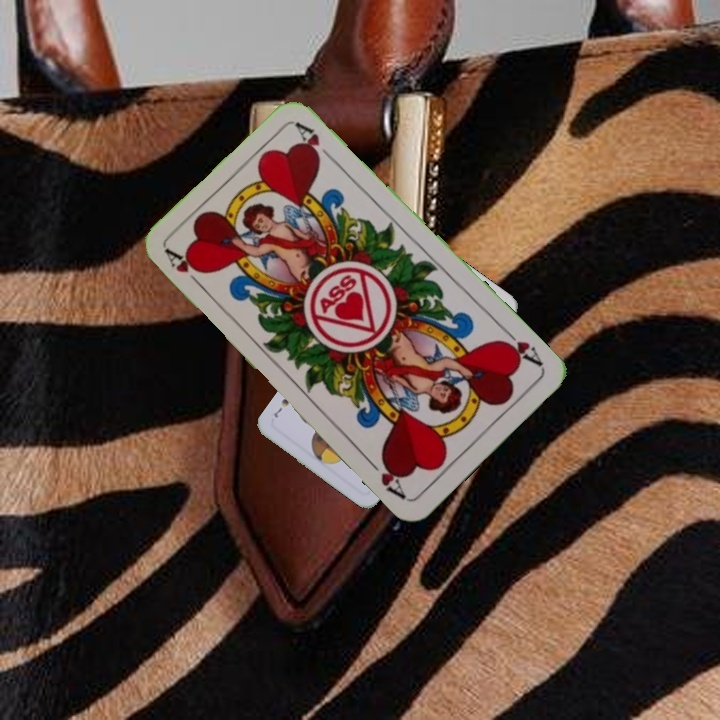HA: (493, 323, 545, 369), (161, 245, 208, 293)
